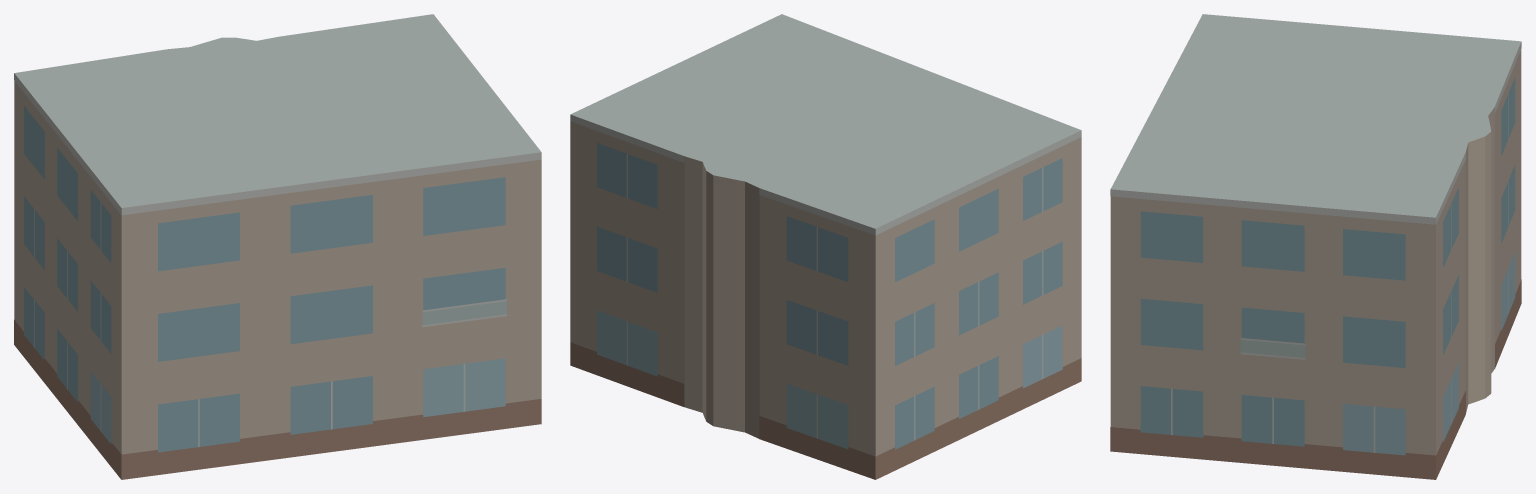
Rendered from survey-upis-32758947.glb.
3 renders of one model, left to right at view 1: azimuth 30°, elevation 25°; view 2: azimuth 150°, elevation 25°; view 3: azimuth 270°, elevation 25°, orthographic. The views are drawn at different scales.
Parts seen in each view (by area): view 1: survey-upis-32758947.tmp; view 2: survey-upis-32758947.tmp; view 3: survey-upis-32758947.tmp.
Part boxes in pixels (x1,y1,x2,y2): survey-upis-32758947.tmp: (14,14,541,479); survey-upis-32758947.tmp: (570,14,1081,479); survey-upis-32758947.tmp: (1110,14,1521,479).
Size of the model in its own units: 15.26 by 9.15 by 13.01.
